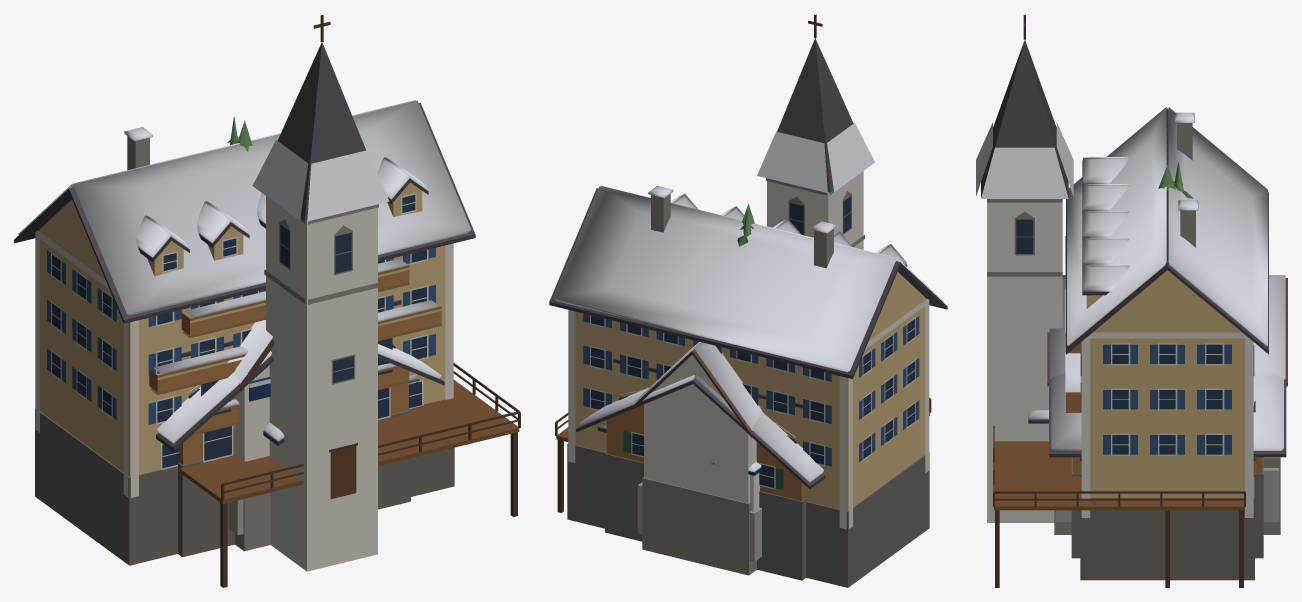
File: snow.glb
3 renders of one model, left to right at view 1: azimuth 30°, elevation 25°; view 2: azimuth 150°, elevation 25°; view 3: azimuth 270°, elevation 25°, orthographic. The views are drawn at different scales.
Parts seen in each view (by area): view 1: hotel, church, lodge, lift_station; view 2: hotel, church, lodge, lift_station; view 3: hotel, church, lodge, lift_station.
Part boxes in pixels (x1,y1,x2,y2): hotel: (14, 100, 475, 565); church: (228, 15, 389, 571); lodge: (156, 338, 520, 587); lift_station: (229, 376, 270, 535); hotel: (549, 185, 947, 587); church: (633, 14, 874, 575); lodge: (555, 375, 931, 580); lift_station: (637, 461, 761, 561); hotel: (1028, 107, 1268, 580); church: (976, 15, 1287, 534); lodge: (993, 371, 1286, 587); lift_station: (1055, 468, 1279, 521).
Size of the model in its own units: 22.16 by 31.6 by 18.14.
